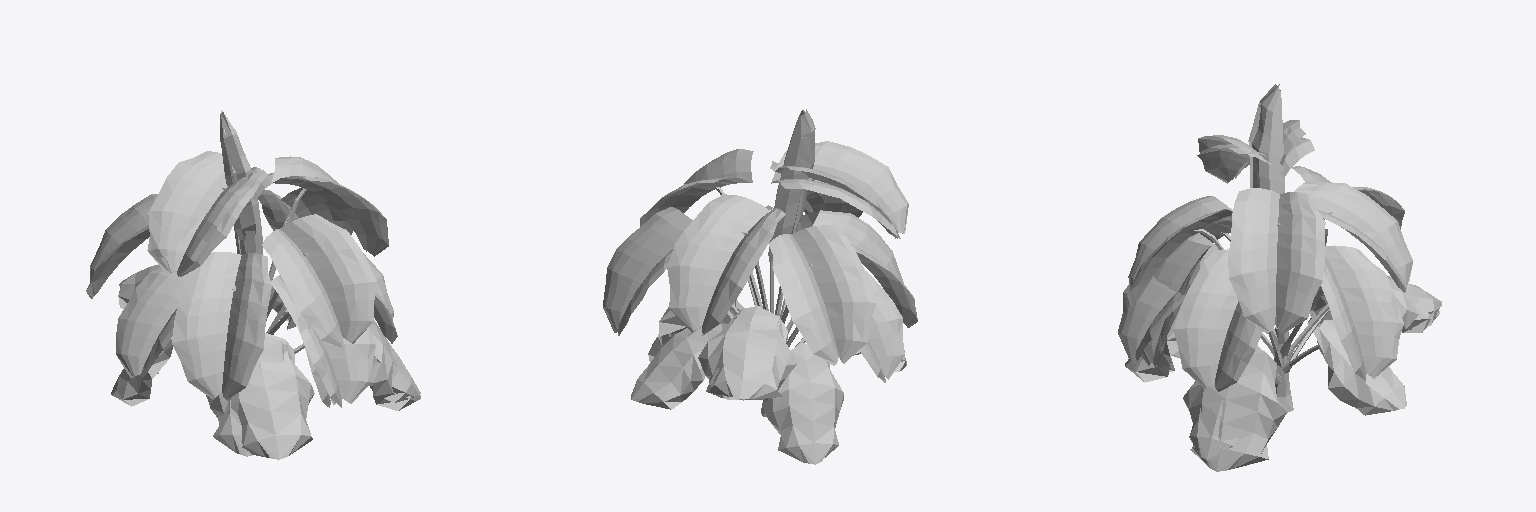
File: Alocasia macrorrhiza 01.obj
3 renders of one model, left to right at view 1: azimuth 30°, elevation 25°; view 2: azimuth 150°, elevation 25°; view 3: azimuth 270°, elevation 25°, orthographic.
Parts seen in each view (by area): view 1: tree; view 2: tree; view 3: tree.
Part boxes in pixels (bbox=[...]): tree: bbox=[86, 110, 420, 459]; tree: bbox=[603, 109, 917, 464]; tree: bbox=[1118, 84, 1441, 471].
Size of the model in its own units: 210 by 230 by 219.